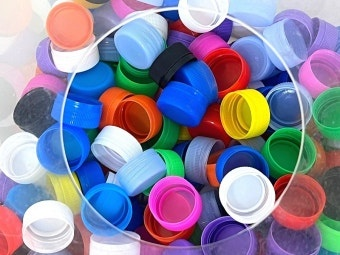plastic: (62, 7, 306, 246)
